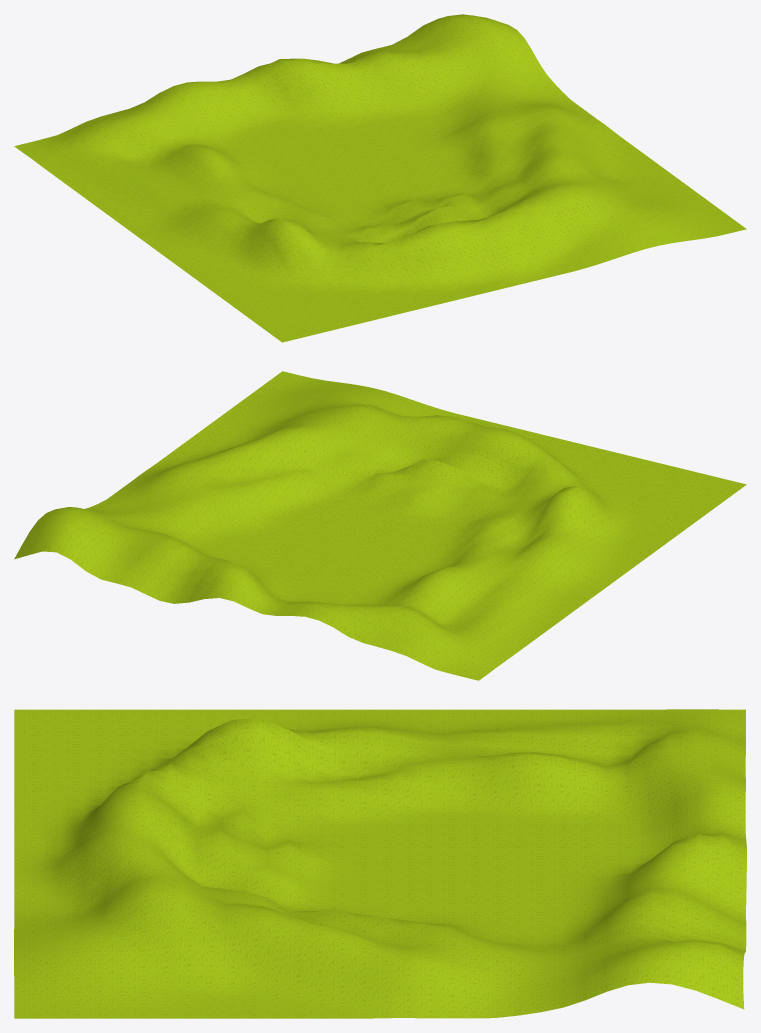
File: Ground3.fbx
3 views of the same model, one above another, from view 1: azimuth 30°, elevation 25°; view 2: azimuth 150°, elevation 25°; view 3: azimuth 270°, elevation 25° (orthographic). The views are drawn at different scales.
Parts seen in each view (by area): view 1: Plane.003; view 2: Plane.003; view 3: Plane.003.
Part boxes in pixels (x1,y1,x2,y2): Plane.003: (14,14,746,342); Plane.003: (14,371,746,680); Plane.003: (14,709,746,1018).
Size of the model in its own units: 6828 by 539 by 6793.
Materials: 1 (1 with a texture image).
